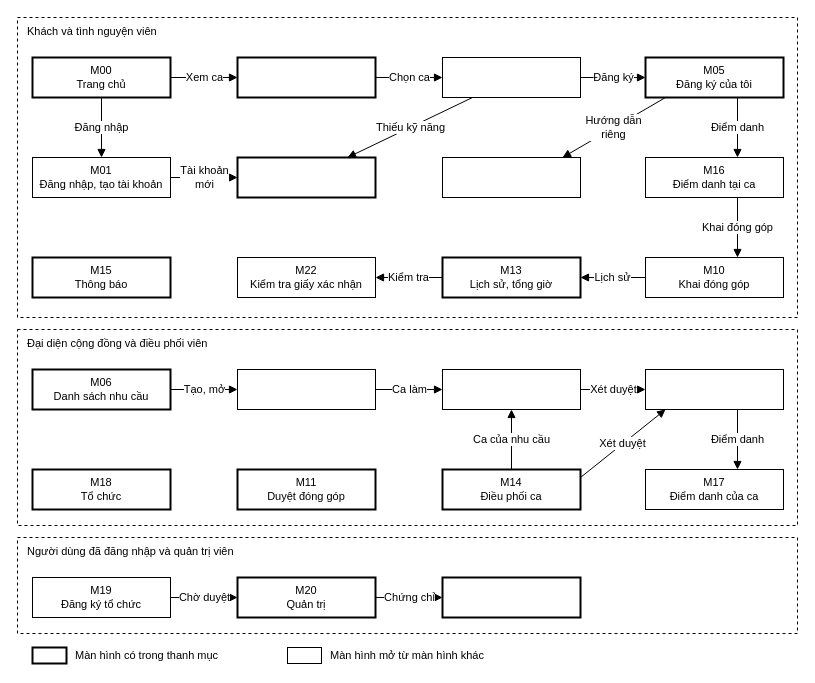
Some shapes in this 815 by 683 pixel diagram are drawn without their labels. The shapes that lost their labels are listed below. From the top down, each one's box as (x1, y1, x2, y2) in pixels, then its label:
(236, 56, 376, 98): M02 Tìm ca làm
(442, 56, 580, 98): M03 Chi tiết ca làm
(236, 156, 376, 198): M04 Hồ sơ và kỹ năng
(442, 156, 580, 198): M12 Hướng dẫn riêng
(236, 368, 376, 410): M07 Nhu cầu
(442, 368, 580, 410): M08 Quản lý ca làm
(644, 368, 784, 410): M09 Xét duyệt đăng ký
(441, 576, 581, 618): M21 Xác minh chứng chỉ
